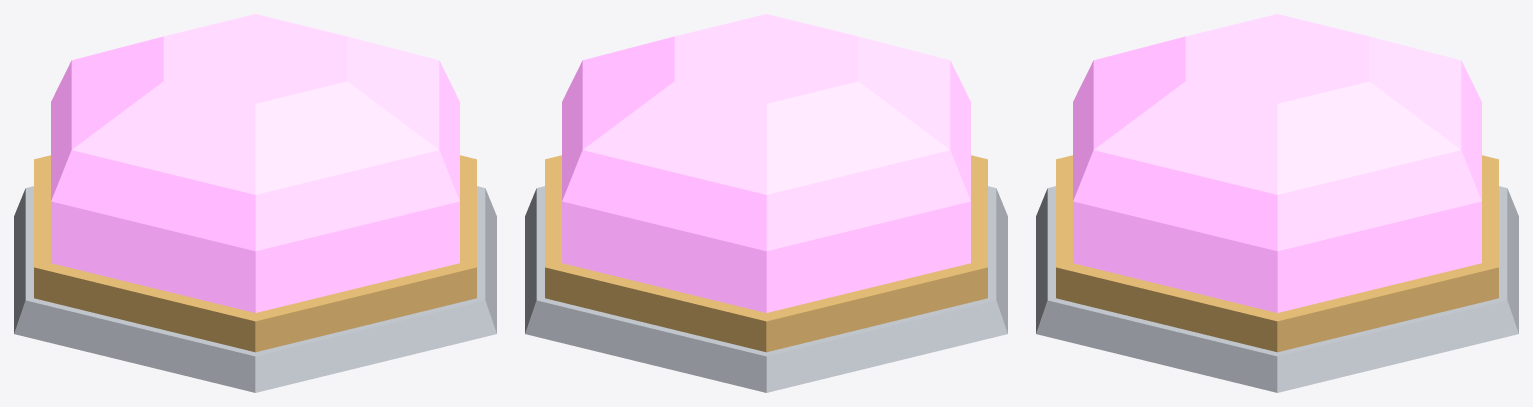
The model's file is Greenhouse Dome.glb.
3 views of the same model, side by side, from view 1: azimuth 30°, elevation 25°; view 2: azimuth 150°, elevation 25°; view 3: azimuth 270°, elevation 25° (orthographic).
Parts seen in each view (by area): view 1: hangar_roundGlass; view 2: hangar_roundGlass; view 3: hangar_roundGlass.
Part boxes in pixels (x1,y1,x2,y2): hangar_roundGlass: (14,14,496,392); hangar_roundGlass: (525,14,1007,392); hangar_roundGlass: (1036,14,1518,392).
Bounding box in the file's own units: 3.27 × 1.4 × 2.83.
